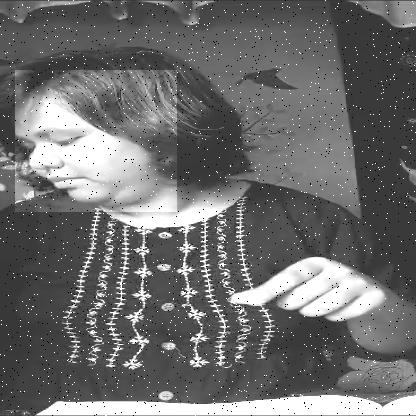Distracted: (16, 70, 178, 212)
